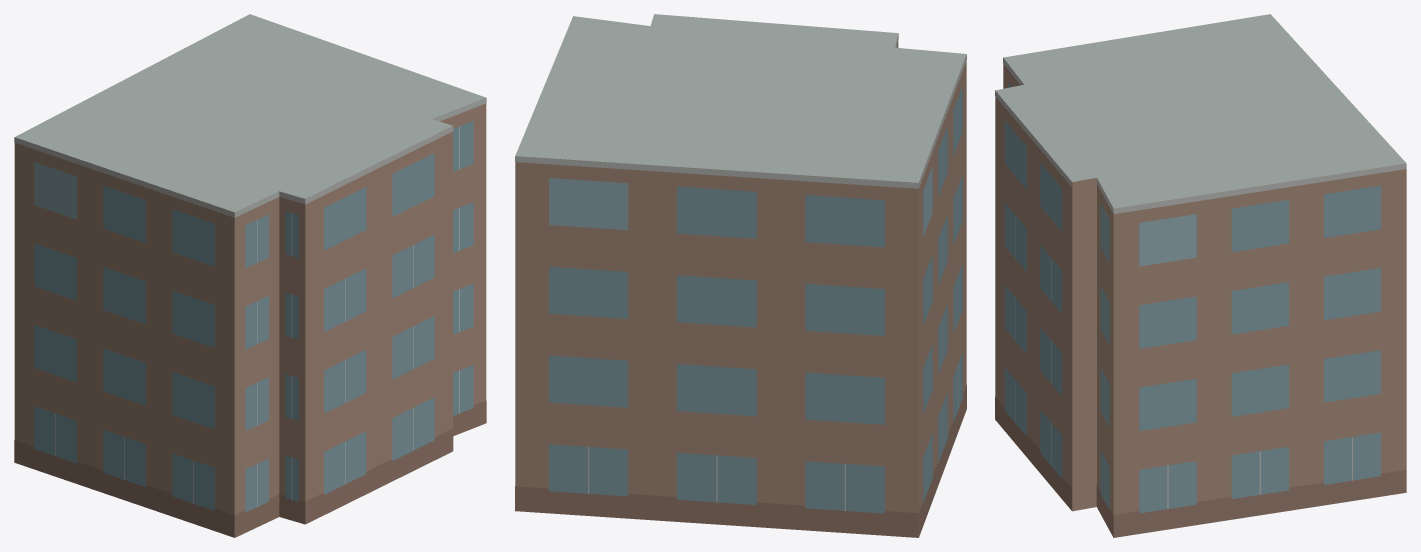
Rendered from survey-upis-33035582.glb.
The picture shows the model from 3 angles, left to right: view 1: azimuth 30°, elevation 25°; view 2: azimuth 150°, elevation 25°; view 3: azimuth 270°, elevation 25°; orthographic projection. The views are drawn at different scales.
Parts seen in each view (by area): view 1: survey-upis-33035582.tmp; view 2: survey-upis-33035582.tmp; view 3: survey-upis-33035582.tmp.
Part boxes in pixels (<box>): survey-upis-33035582.tmp: <box>14,14,486,537</box>; survey-upis-33035582.tmp: <box>515,14,966,537</box>; survey-upis-33035582.tmp: <box>995,14,1406,537</box>.
Size of the model in its own units: 18.44 by 14.53 by 16.47.
